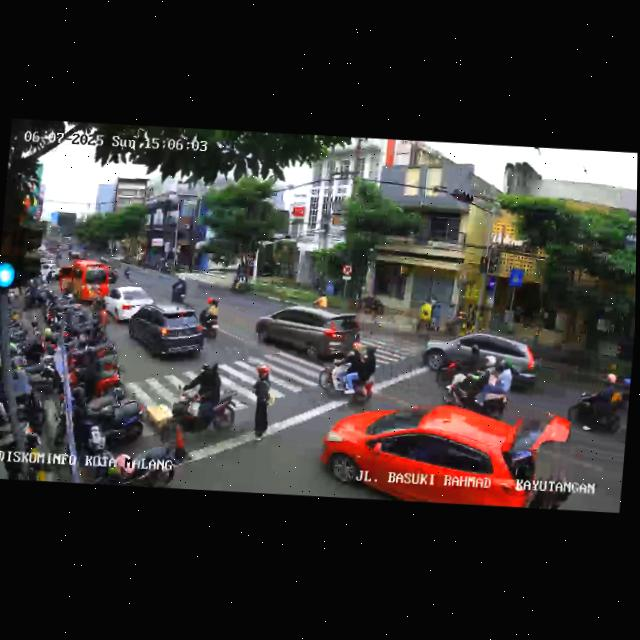car: (316, 395, 553, 512), (436, 327, 541, 393), (252, 298, 353, 363), (123, 299, 204, 365), (55, 258, 110, 305), (102, 283, 156, 325)
motorcycle: (171, 355, 239, 440), (441, 342, 514, 419), (316, 338, 382, 406), (566, 370, 629, 438), (200, 296, 223, 337), (168, 272, 190, 305)
person: (246, 367, 275, 442), (412, 295, 432, 336), (430, 300, 442, 338)
